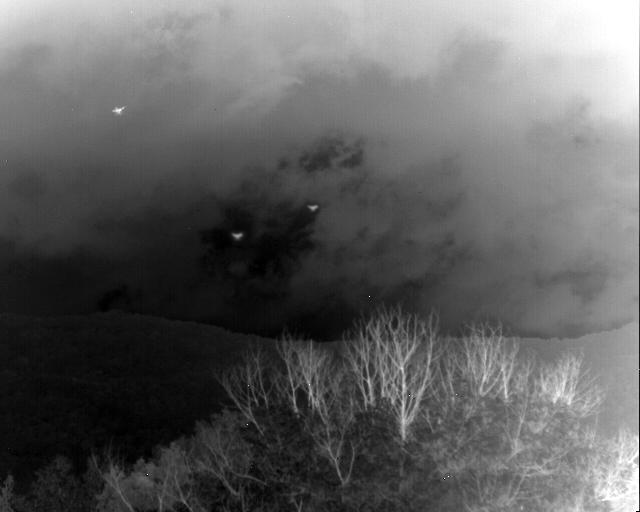plane: (111, 105, 126, 114), (233, 232, 243, 239), (308, 204, 318, 210)
